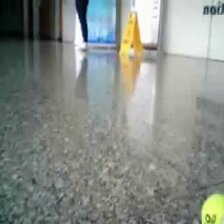tennis: (200, 194, 224, 224)
